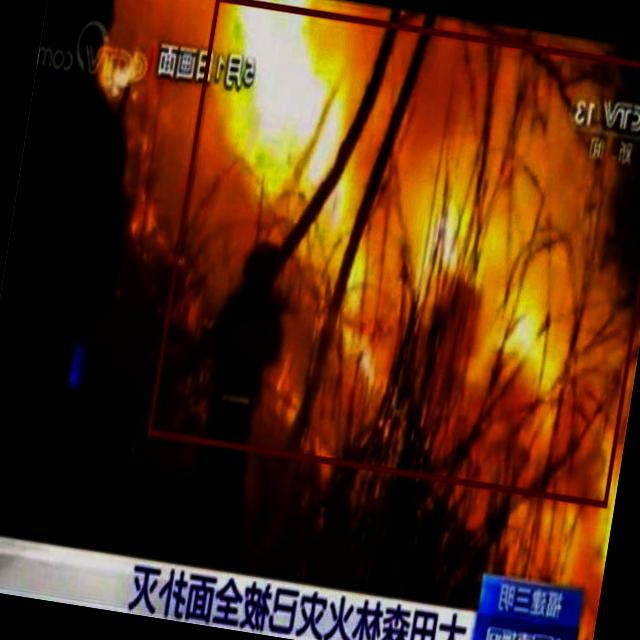fire: (148, 0, 640, 506)
